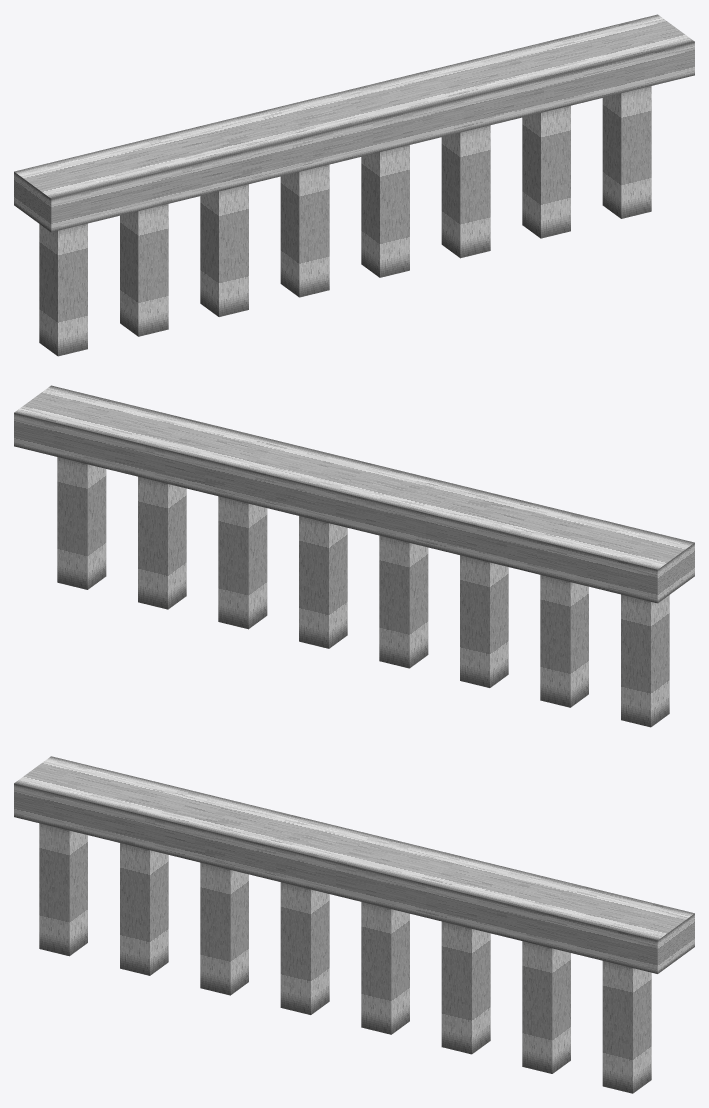
Rendered from block-rail.fbx.
3 views of the same model, one above another, from view 1: azimuth 30°, elevation 25°; view 2: azimuth 150°, elevation 25°; view 3: azimuth 330°, elevation 25° (orthographic).
Parts seen in each view (by area): view 1: handrail, baluster.005, baluster.003, baluster.008, baluster, baluster.001, baluster.002, baluster.007, baluster.004; view 2: handrail, baluster.005, baluster.003, baluster.008, baluster, baluster.001, baluster.002, baluster.007, baluster.004; view 3: handrail, baluster.003, baluster.005, baluster.008, baluster.002, baluster, baluster.004, baluster.007, baluster.001.
Boxes of the visible parts, x1,y1,x2,y2 form: handrail: [14, 14, 694, 232]; baluster.005: [441, 125, 490, 258]; baluster.003: [280, 164, 329, 297]; baluster.008: [602, 86, 651, 218]; baluster: [39, 223, 87, 356]; baluster.001: [120, 204, 168, 336]; baluster.002: [200, 184, 248, 316]; baluster.007: [522, 105, 570, 238]; baluster.004: [361, 145, 409, 277]; handrail: [14, 385, 694, 603]; baluster.005: [218, 496, 267, 629]; baluster.003: [379, 535, 428, 668]; baluster.008: [57, 457, 106, 589]; baluster: [621, 594, 669, 727]; baluster.001: [540, 575, 588, 707]; baluster.002: [460, 555, 508, 687]; baluster.007: [138, 476, 186, 609]; baluster.004: [299, 516, 347, 648]; handrail: [14, 756, 694, 973]; baluster.003: [280, 882, 329, 1014]; baluster.005: [441, 921, 490, 1054]; baluster.008: [602, 961, 651, 1093]; baluster.002: [200, 862, 248, 995]; baluster: [39, 823, 87, 956]; baluster.004: [361, 902, 409, 1034]; baluster.007: [522, 941, 570, 1073]; baluster.001: [120, 843, 168, 975].
Bounding box in the file's own units: 500 × 125 × 50.
Materials: 1 (1 with a texture image).
